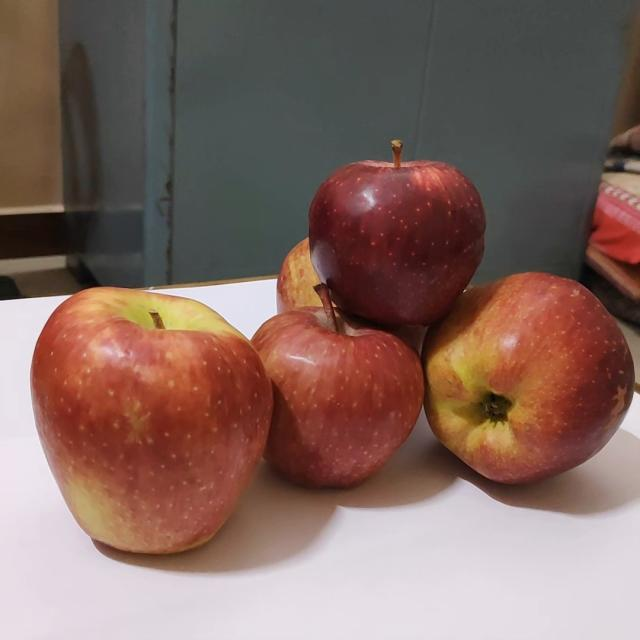apple: (28, 281, 277, 555), (418, 266, 639, 491), (248, 279, 427, 491), (304, 134, 488, 331), (274, 230, 358, 318)
